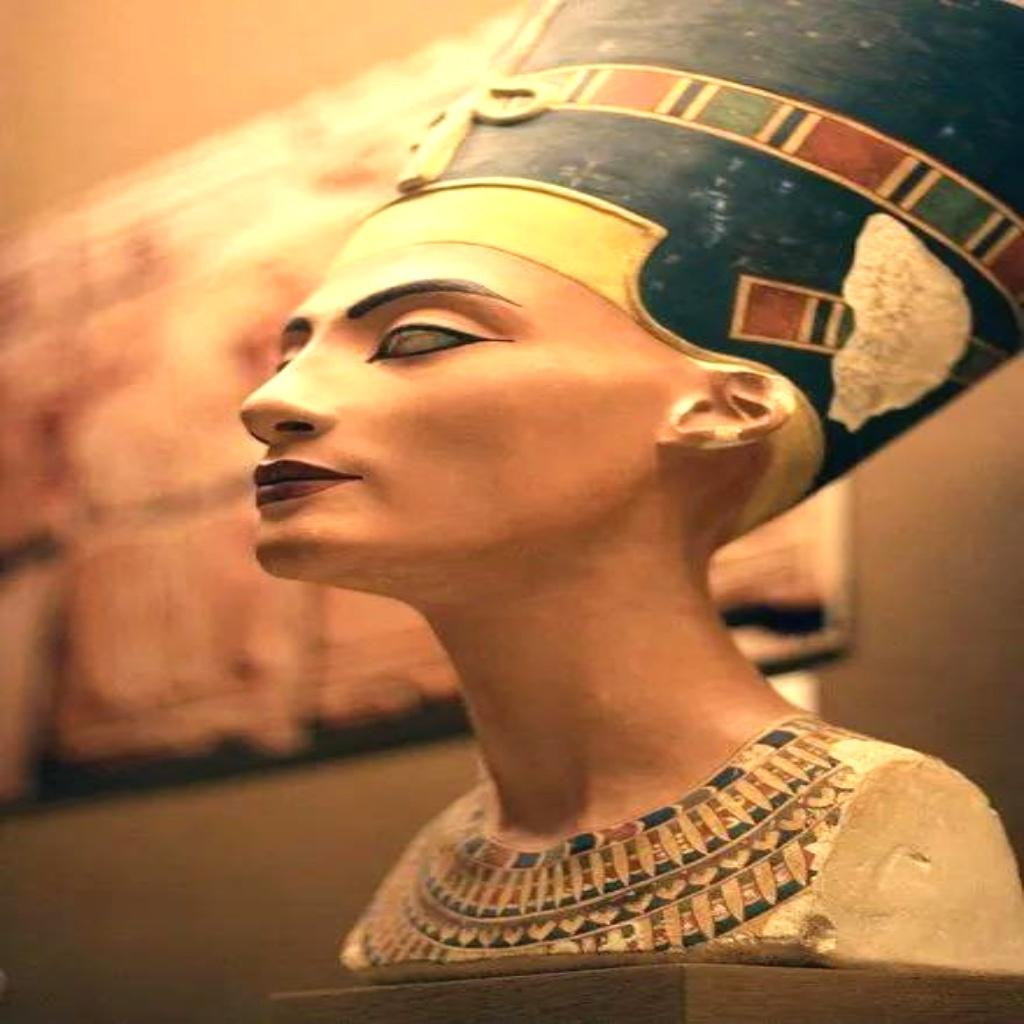Nefertiti: (235, 0, 1019, 984)
